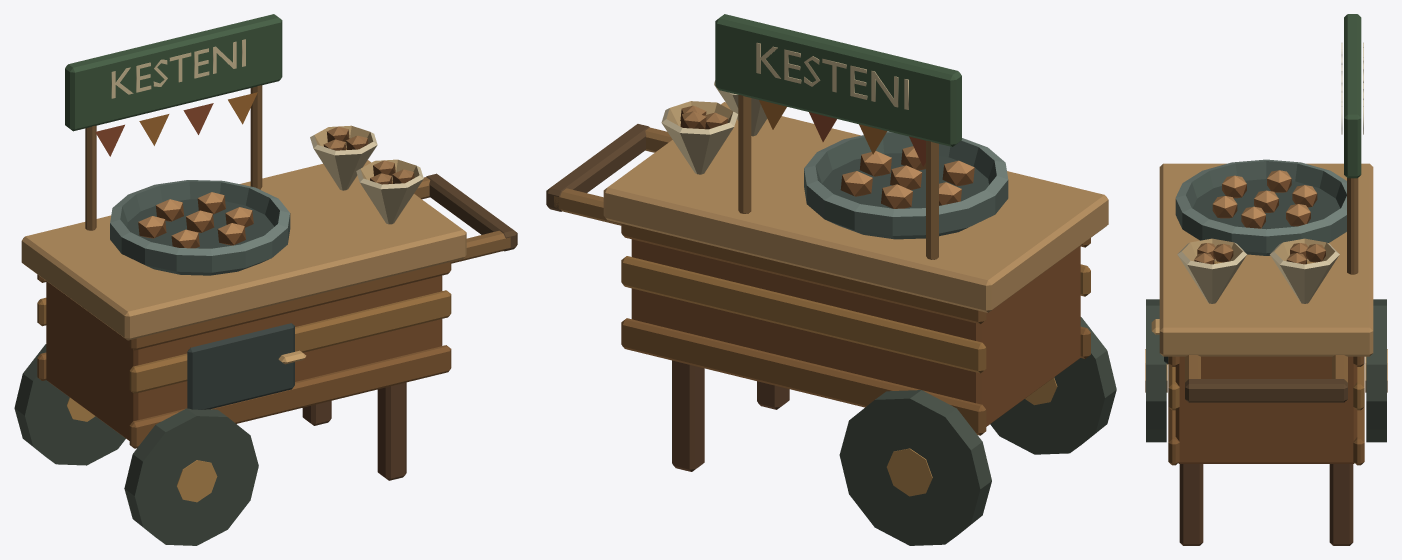
File: ChestnutRoastingCart.glb
3 views of the same model, side by side, from view 1: azimuth 30°, elevation 25°; view 2: azimuth 150°, elevation 25°; view 3: azimuth 270°, elevation 25° (orthographic). The views are drawn at different scales.
Parts seen in each view (by area): view 1: ChestnutRoastingCart_Cart, ChestnutRoastingCart_Roaster; view 2: ChestnutRoastingCart_Cart, ChestnutRoastingCart_Roaster; view 3: ChestnutRoastingCart_Cart, ChestnutRoastingCart_Roaster.
Boxes of the visible parts, x1,y1,x2,y2 form: ChestnutRoastingCart_Cart: (21, 14, 517, 480); ChestnutRoastingCart_Roaster: (14, 180, 306, 545); ChestnutRoastingCart_Cart: (546, 14, 1108, 471); ChestnutRoastingCart_Roaster: (804, 131, 1116, 545); ChestnutRoastingCart_Cart: (1159, 14, 1373, 545); ChestnutRoastingCart_Roaster: (1145, 159, 1387, 442).
Size of the model in its own units: 1.47 by 1.42 by 0.76.
